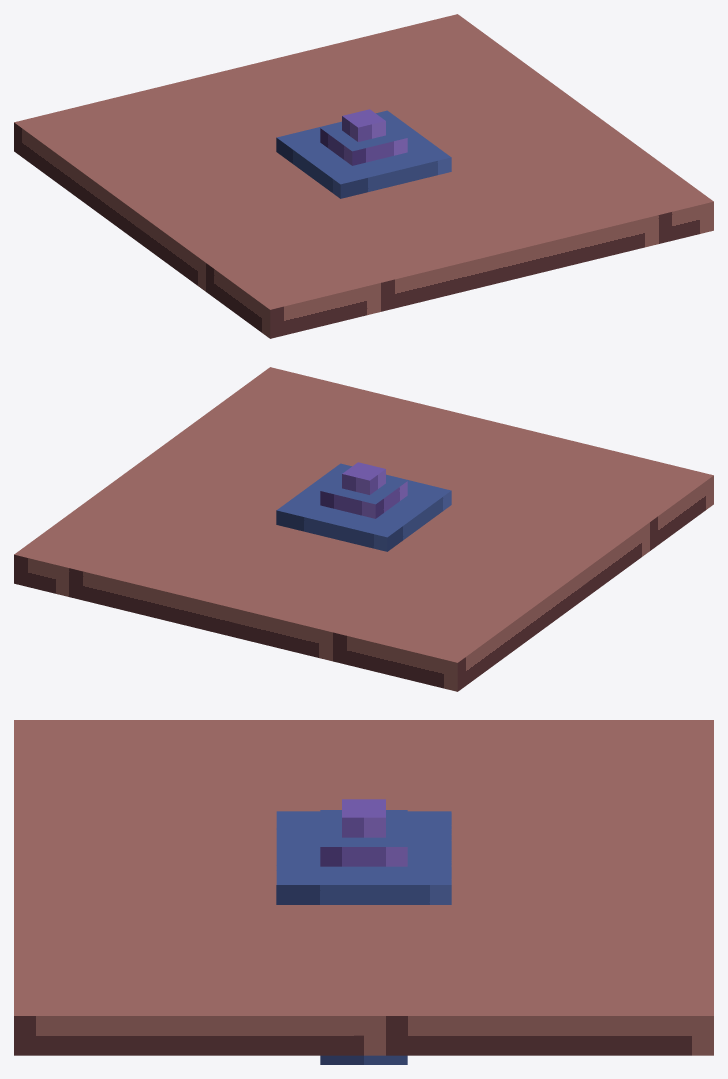
The model's file is waterwheelao.fezao.glb.
3 views of the same model, one above another, from view 1: azimuth 30°, elevation 25°; view 2: azimuth 150°, elevation 25°; view 3: azimuth 270°, elevation 25° (orthographic). The views are drawn at different scales.
Visible parts, largest first — view 1: WATERWHEELAO; view 2: WATERWHEELAO; view 3: WATERWHEELAO.
Part boxes in pixels (box(x1,y1,x2,y2)): WATERWHEELAO: box(14, 14, 713, 338); WATERWHEELAO: box(14, 367, 713, 691); WATERWHEELAO: box(14, 720, 713, 1064).
Bounding box in the file's own units: 2 × 0.75 × 2.
Materials: 1 (1 with a texture image).
